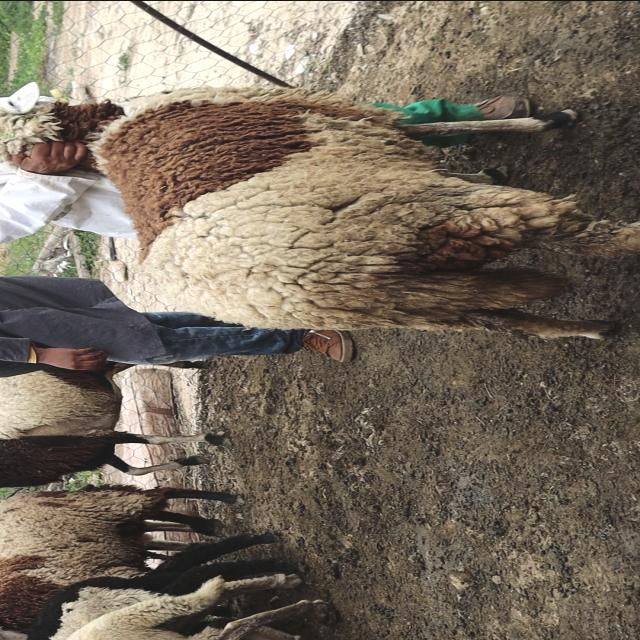Score_5: (0, 82, 639, 338)
